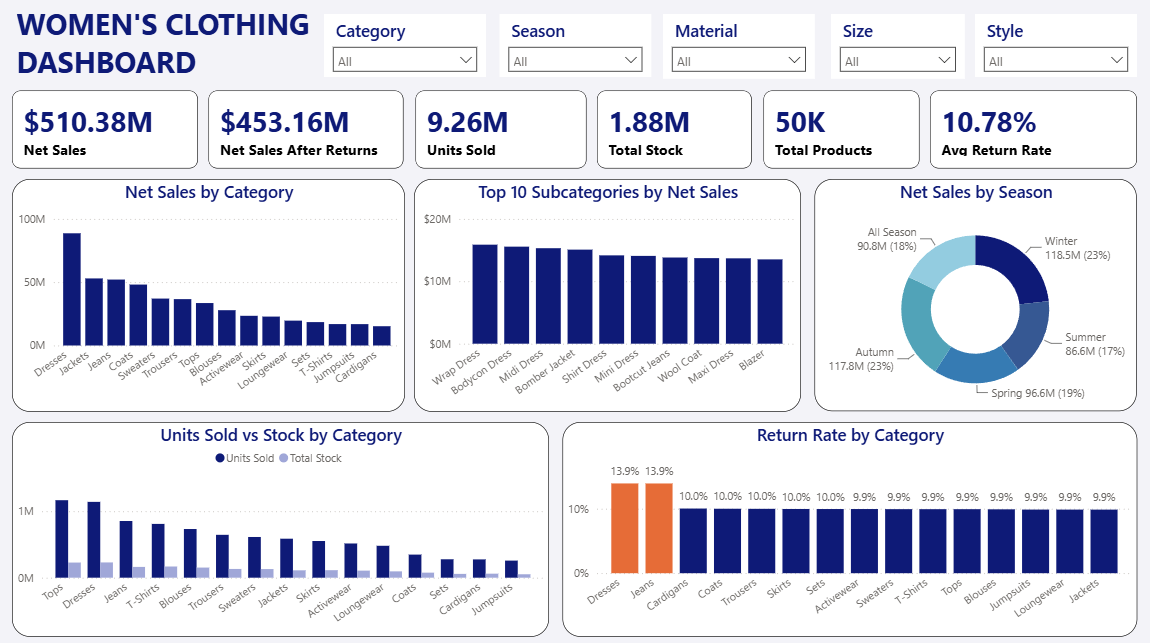

This screenshot's page, from the dashboard's own definition file:
{"tool":"powerbi","page":{"name":"Page 1","canvas":[1280,720],"ordinal":0},"visuals":[{"type":"textbox","box":[13.3,0,370,101.7],"z":0},{"type":"slicer","fields":{"Values":["women_clothing.category"]},"box":[360,16.7,180,70],"z":1000},{"type":"slicer","fields":{"Values":["women_clothing.season"]},"box":[555,16.7,168.3,70],"z":2000},{"type":"slicer","fields":{"Values":["women_clothing.style"]},"box":[1083.3,16.7,180,70],"z":3000},{"type":"slicer","fields":{"Values":["women_clothing.size"]},"box":[923.3,16.7,148.3,71.7],"z":4000},{"type":"slicer","fields":{"Values":["women_clothing.material"]},"box":[736.7,16.7,168.3,71.7],"z":5000},{"type":"cardVisual","fields":{"Data":["women_clothing.Total Products"]},"box":[847.7,101.7,173.3,86.7],"z":6000},{"type":"cardVisual","fields":{"Data":["women_clothing.Total Units Sold"]},"box":[461.3,101.7,190,86.7],"z":7000},{"type":"cardVisual","fields":{"Data":["Sum(women_clothing.Net_Sales)"]},"box":[13.3,101.7,206.7,86.7],"z":8000},{"type":"cardVisual","fields":{"Data":["women_clothing.Total Stock"]},"box":[663.7,101.7,171.7,86.7],"z":9000},{"type":"cardVisual","fields":{"Data":["women_clothing.Average Return Rate"]},"box":[1033.3,101.7,230,86.7],"z":10000},{"type":"columnChart","title":"Net Sales by Category","fields":{"Category":["women_clothing.category"],"Y":["Sum(women_clothing.Net_Sales)"]},"box":[13.3,200,436.7,258.3],"z":11000},{"type":"lineClusteredColumnComboChart","title":"Units Sold vs Stock by Category","fields":{"Category":["women_clothing.category"],"Y":["Sum(women_clothing.units_sold)","women_clothing.Total Stock"]},"box":[13.3,470,596.7,238.3],"z":12000},{"type":"columnChart","title":"Top 10 Subcategories by Net Sales","fields":{"Category":["women_clothing.subcategory"],"Y":["women_clothing.Total Net Sales"]},"box":[460,200,430,258.3],"z":13000},{"type":"donutChart","fields":{"Y":["Sum(women_clothing.Net_Sales)"],"Category":["women_clothing.season"]},"box":[905.1,200.4,357.9,257.7],"z":14000},{"type":"clusteredColumnChart","title":"Return Rate by Category","fields":{"Category":["women_clothing.category"],"Y":["women_clothing.Average Return Rate"]},"box":[625,470,638.3,238.3],"z":15000},{"type":"cardVisual","fields":{"Data":["women_clothing.Net Sales After Returns"]},"box":[232.3,101.7,216.7,86.7],"z":16000}]}

Visuals, with their boxes in screenshot pixels (x1, y1, x2, y2), scaled from the page's 1280x720 canvas onto the 1150x643 screenshot:
textbox: box(12, 0, 344, 91)
slicer - women_clothing.category: box(323, 15, 485, 77)
slicer - women_clothing.season: box(499, 15, 650, 77)
slicer - women_clothing.style: box(973, 15, 1135, 77)
slicer - women_clothing.size: box(830, 15, 963, 79)
slicer - women_clothing.material: box(662, 15, 813, 79)
cardVisual - women_clothing.Total Products: box(762, 91, 917, 168)
cardVisual - women_clothing.Total Units Sold: box(414, 91, 585, 168)
cardVisual - Sum(women_clothing.Net_Sales): box(12, 91, 198, 168)
cardVisual - women_clothing.Total Stock: box(596, 91, 751, 168)
cardVisual - women_clothing.Average Return Rate: box(928, 91, 1135, 168)
"Net Sales by Category" columnChart: box(12, 179, 404, 409)
"Units Sold vs Stock by Category" lineClusteredColumnComboChart: box(12, 420, 548, 633)
"Top 10 Subcategories by Net Sales" columnChart: box(413, 179, 800, 409)
donutChart - Sum(women_clothing.Net_Sales) x women_clothing.season: box(813, 179, 1135, 409)
"Return Rate by Category" clusteredColumnChart: box(562, 420, 1135, 633)
cardVisual - women_clothing.Net Sales After Returns: box(209, 91, 403, 168)
